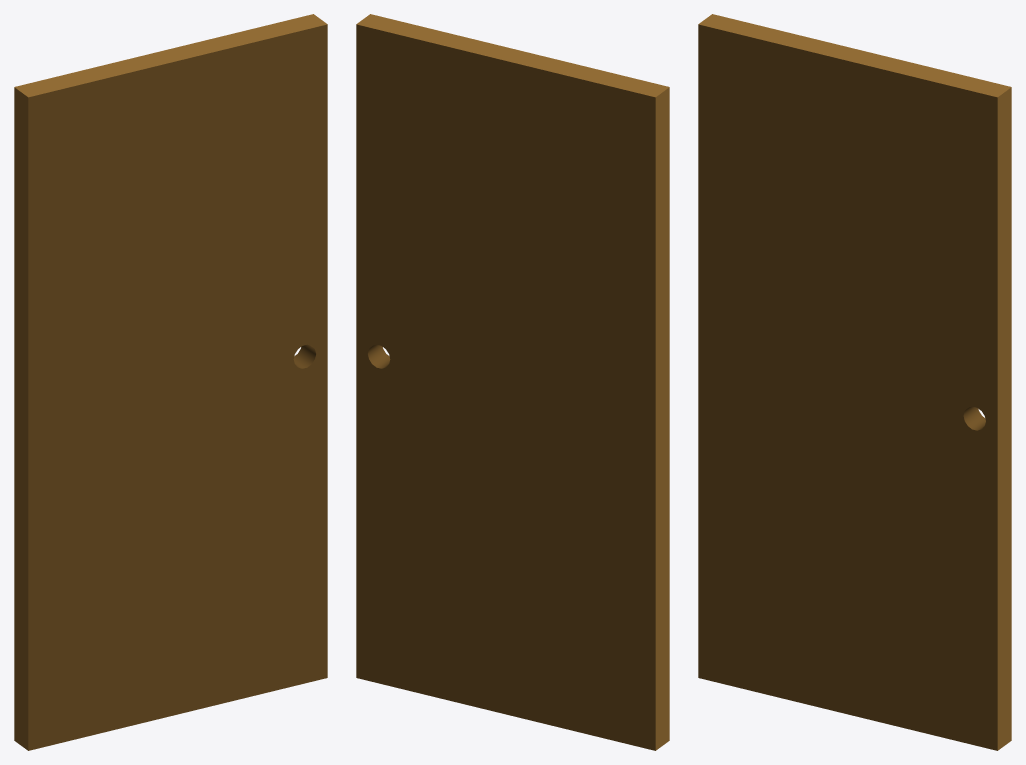
File: replacementdoor_high.fbx
The picture shows the model from 3 angles, left to right: view 1: azimuth 30°, elevation 25°; view 2: azimuth 150°, elevation 25°; view 3: azimuth 330°, elevation 25°; orthographic projection.
Parts seen in each view (by area): view 1: replacementdoor:ReplacementDoor; view 2: replacementdoor:ReplacementDoor; view 3: replacementdoor:ReplacementDoor.
Part boxes in pixels (bbox=[...]): replacementdoor:ReplacementDoor: bbox=[14, 14, 327, 750]; replacementdoor:ReplacementDoor: bbox=[356, 14, 669, 750]; replacementdoor:ReplacementDoor: bbox=[698, 14, 1011, 750].
Size of the model in its own units: 97.78 by 204 by 8.02.
